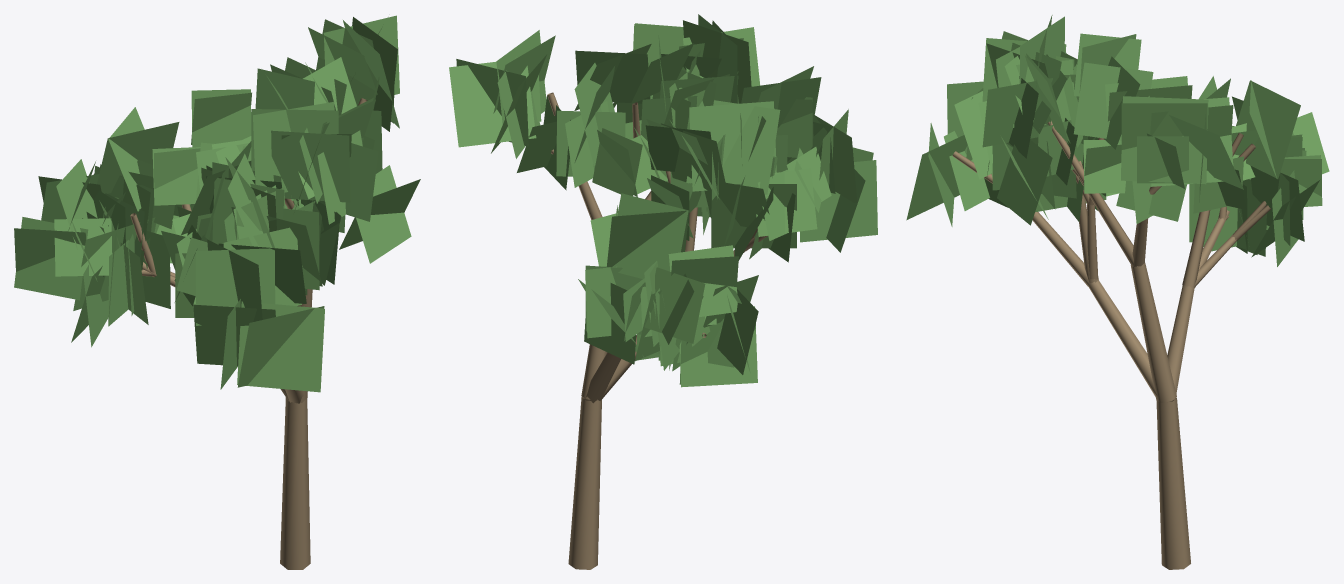
The model's file is tree_c.glb.
3 renders of one model, left to right at view 1: azimuth 30°, elevation 25°; view 2: azimuth 150°, elevation 25°; view 3: azimuth 270°, elevation 25°, orthographic. The views are drawn at different scales.
Visible parts, largest first — view 1: tree_c_leaves, tree_c_wood; view 2: tree_c_leaves, tree_c_wood; view 3: tree_c_leaves, tree_c_wood.
Boxes of the visible parts, x1,y1,x2,y2 form: tree_c_leaves: (14, 15, 420, 392); tree_c_wood: (130, 98, 367, 569); tree_c_leaves: (449, 14, 877, 387); tree_c_wood: (547, 92, 767, 569); tree_c_leaves: (906, 15, 1329, 266); tree_c_wood: (952, 121, 1270, 569).
Size of the model in its own units: 4.48 by 6.44 by 4.9.
